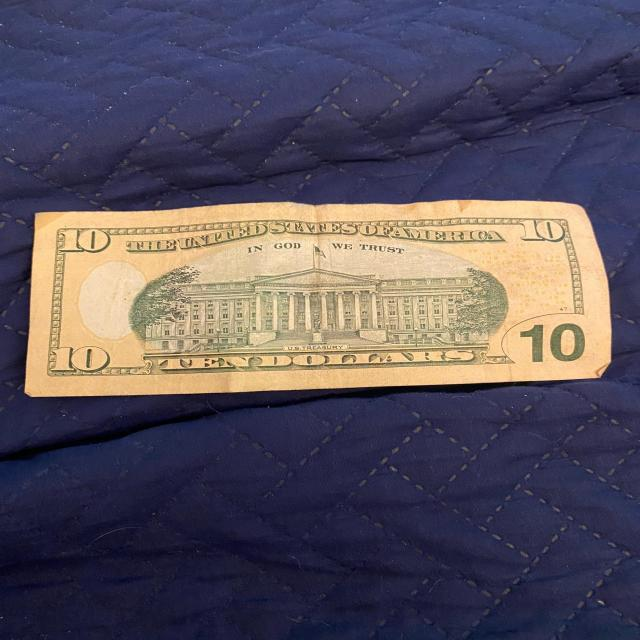10-Back: (18, 200, 616, 395)
